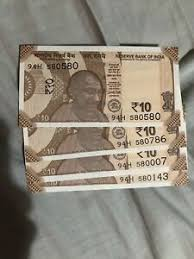ten: (34, 59, 161, 115)
